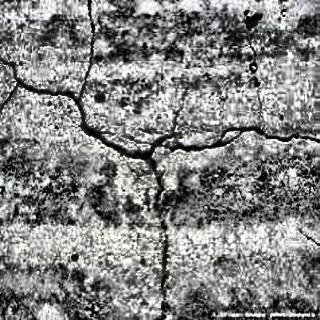crack: (2, 58, 147, 161), (146, 123, 320, 163), (146, 159, 173, 320), (73, 0, 97, 110)
